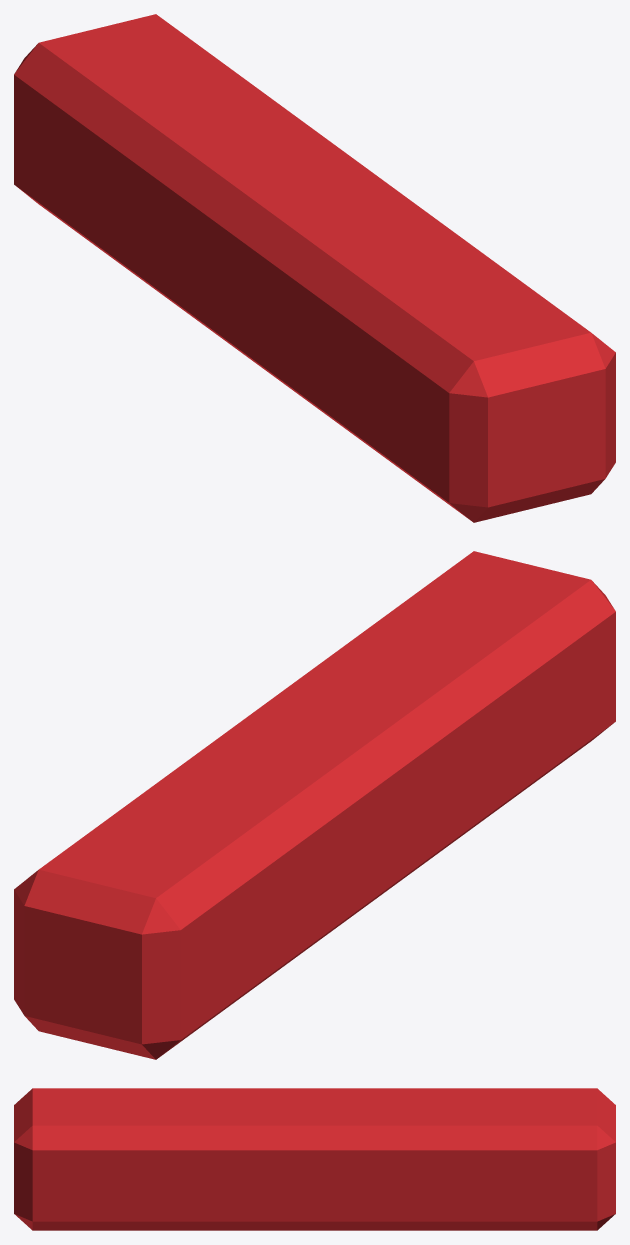
The model's file is drone_weapon_red.obj.
The picture shows the model from 3 angles, top to bottom: view 1: azimuth 30°, elevation 25°; view 2: azimuth 150°, elevation 25°; view 3: azimuth 270°, elevation 25°; orthographic projection. The views are drawn at different scales.
Parts seen in each view (by area): view 1: part_000; view 2: part_000; view 3: part_000.
Part boxes in pixels (x1=…): part_000: x1=14, y1=14, x2=615, y2=522; part_000: x1=14, y1=551, x2=615, y2=1059; part_000: x1=14, y1=1088, x2=615, y2=1230.
Size of the model in its own units: 0.027 by 0.025 by 0.13.
